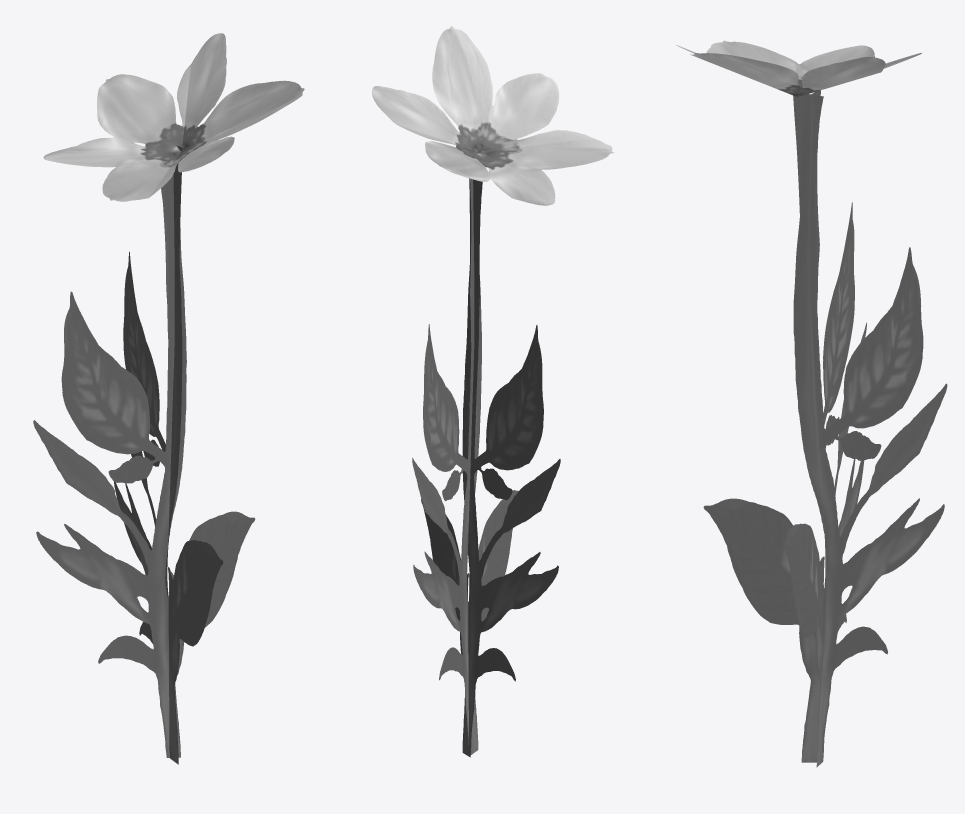
Rendered from p_singleflower.fbx.
3 views of the same model, side by side, from view 1: azimuth 30°, elevation 25°; view 2: azimuth 150°, elevation 25°; view 3: azimuth 270°, elevation 25° (orthographic). The views are drawn at different scales.
Parts seen in each view (by area): view 1: p_flower; view 2: p_flower; view 3: p_flower.
Boxes of the visible parts, <box> form: p_flower: <box>33,33,304,764</box>; p_flower: <box>372,26,613,757</box>; p_flower: <box>675,40,947,767</box>.
Bounding box in the file's own units: 6.22 × 20.71 × 7.02.
